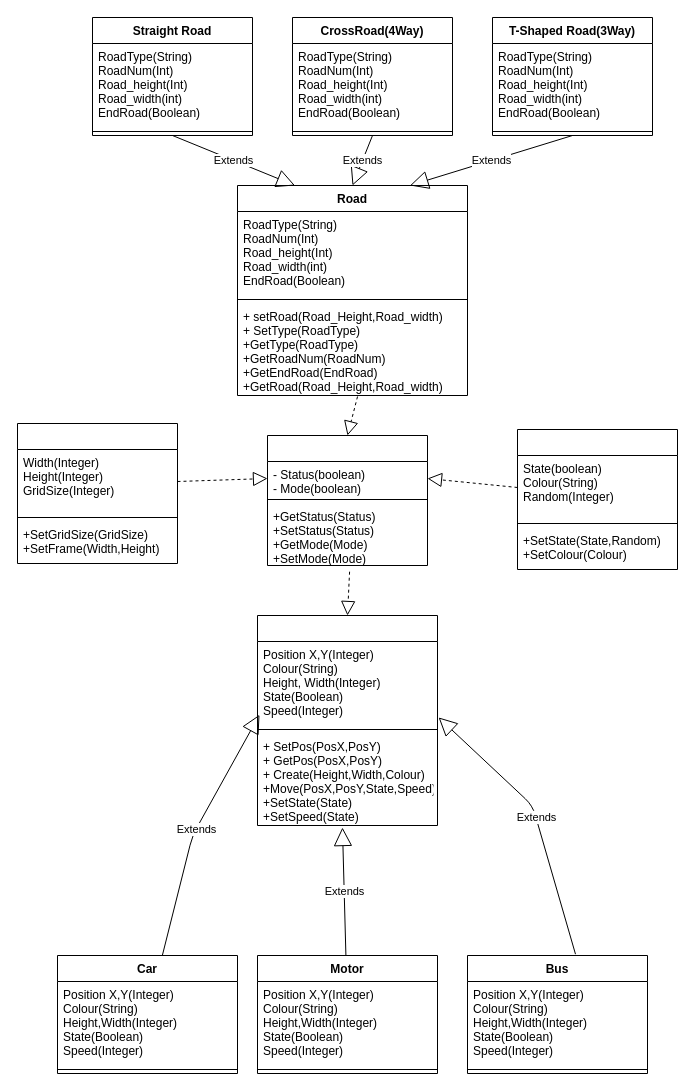
Image size: 695x1091. Some labels were removed from this diagram. Each missing label, with the box of its shape:
Field: (16, 422, 178, 564)
Simulator(Main): (266, 434, 428, 566)
Traffic Light: (516, 428, 678, 570)
Vehicle: (256, 614, 438, 826)
